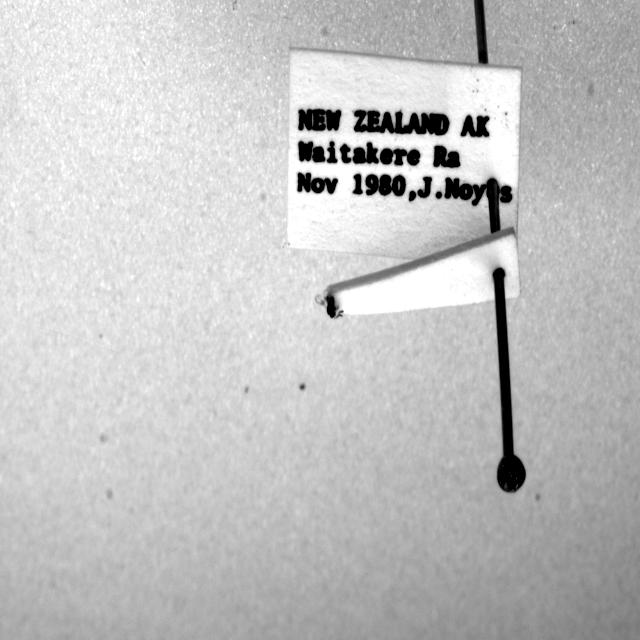typed_label: (288, 49, 521, 259)
